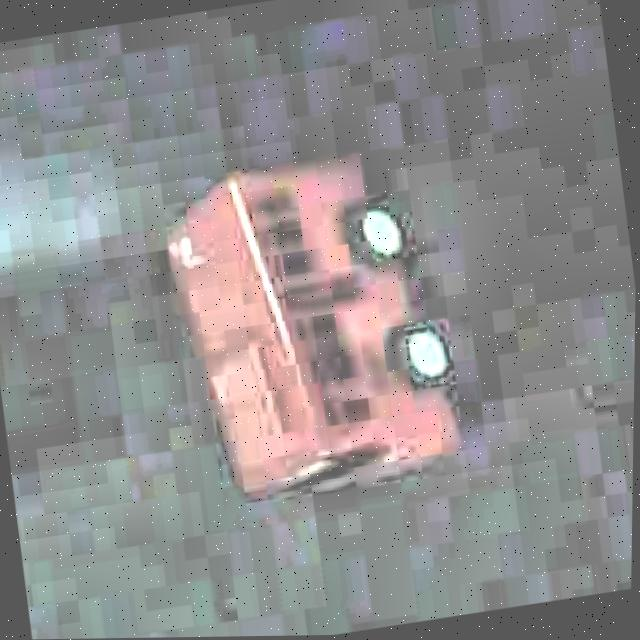bus: (138, 135, 489, 519)
